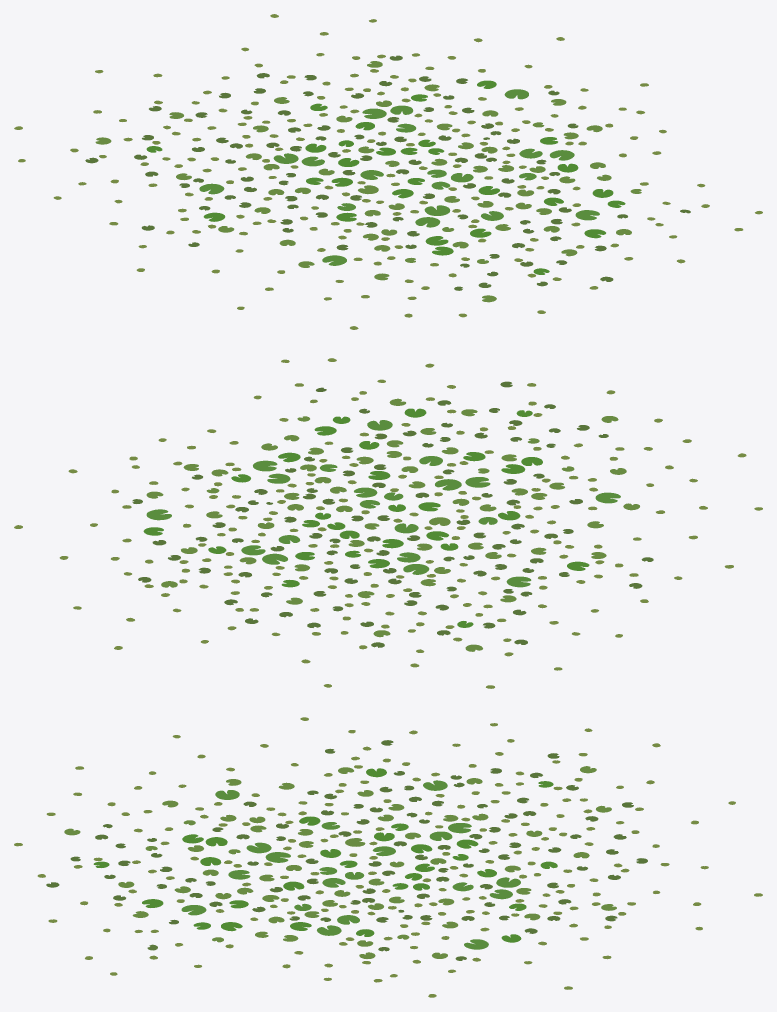
File: plant_nymphaea_set_small_heavy.fbx
3 views of the same model, one above another, from view 1: azimuth 30°, elevation 25°; view 2: azimuth 150°, elevation 25°; view 3: azimuth 270°, elevation 25° (orthographic). The views are drawn at different scales.
Parts seen in each view (by area): view 1: plant_nymphaea_set_small_heavy; view 2: plant_nymphaea_set_small_heavy; view 3: plant_nymphaea_set_small_heavy.
Boxes of the visible parts, box(x1,y1,x2,y2) form: plant_nymphaea_set_small_heavy: box(14, 14, 762, 329); plant_nymphaea_set_small_heavy: box(14, 358, 762, 688); plant_nymphaea_set_small_heavy: box(14, 717, 762, 997).
Size of the model in its own units: 389 by 0.7737 by 439.
